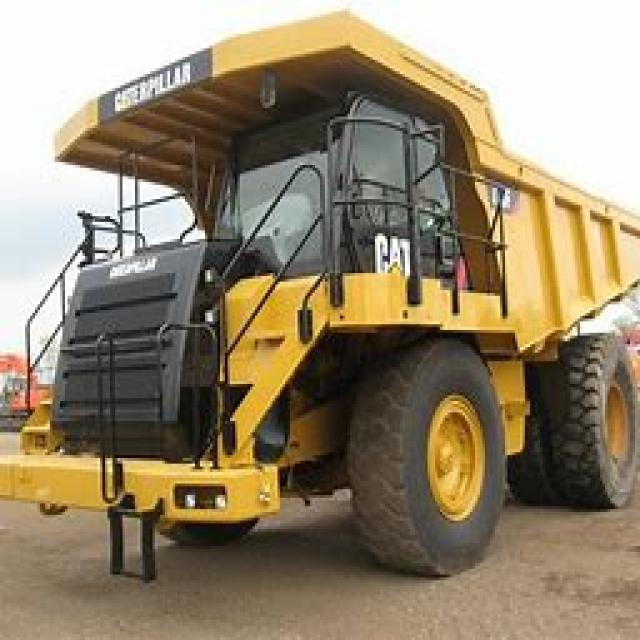dump_truck: (15, 9, 637, 566)
